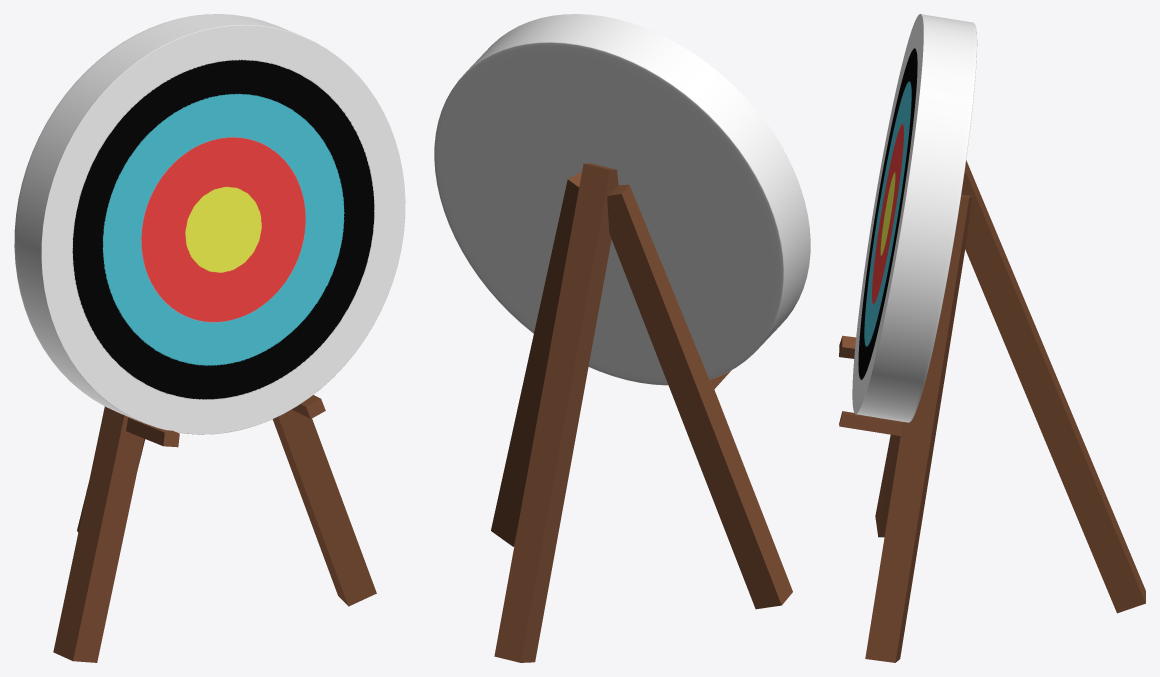
File: Target.fbx
3 views of the same model, side by side, from view 1: azimuth 30°, elevation 25°; view 2: azimuth 150°, elevation 25°; view 3: azimuth 270°, elevation 25° (orthographic). The views are drawn at different scales.
Parts seen in each view (by area): view 1: pCylinder1, polySurface1; view 2: pCylinder1, polySurface1; view 3: pCylinder1, polySurface1.
Part boxes in pixels (x1,y1,x2,y2): pCylinder1: (14,14,405,434); polySurface1: (53,395,376,662); pCylinder1: (434,14,810,385); polySurface1: (491,163,792,662); pCylinder1: (852,14,977,422); polySurface1: (839,160,1145,662).
Size of the model in its own units: 0.6336 by 0.9888 by 0.479.
Materials: 2 (1 with a texture image).
